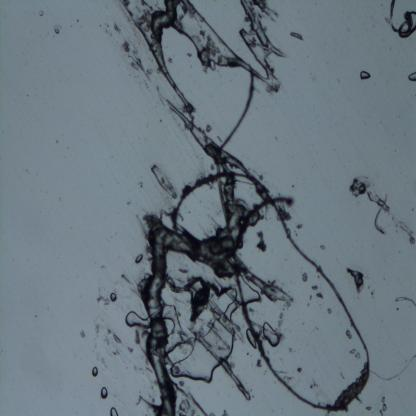Air bubble: (115, 0, 282, 93), (369, 292, 416, 380), (262, 320, 281, 348), (90, 365, 100, 380), (99, 386, 109, 400), (406, 70, 416, 84), (135, 253, 144, 267), (361, 69, 370, 81), (110, 293, 118, 304)
Background material: (124, 214, 184, 414), (149, 163, 178, 201), (393, 214, 416, 249), (347, 175, 374, 200), (347, 266, 365, 296), (255, 230, 269, 255), (288, 28, 306, 42), (348, 347, 363, 361), (108, 332, 122, 347), (106, 22, 121, 35), (77, 328, 89, 342), (378, 396, 386, 416), (52, 23, 61, 36), (300, 271, 309, 284), (345, 329, 354, 341), (310, 282, 320, 292), (326, 306, 334, 317), (108, 406, 118, 414), (316, 292, 325, 300), (319, 243, 325, 251)
Cellulose filter fibre: (384, 1, 416, 41), (373, 195, 389, 238)
Microfibre: (172, 64, 371, 414)
